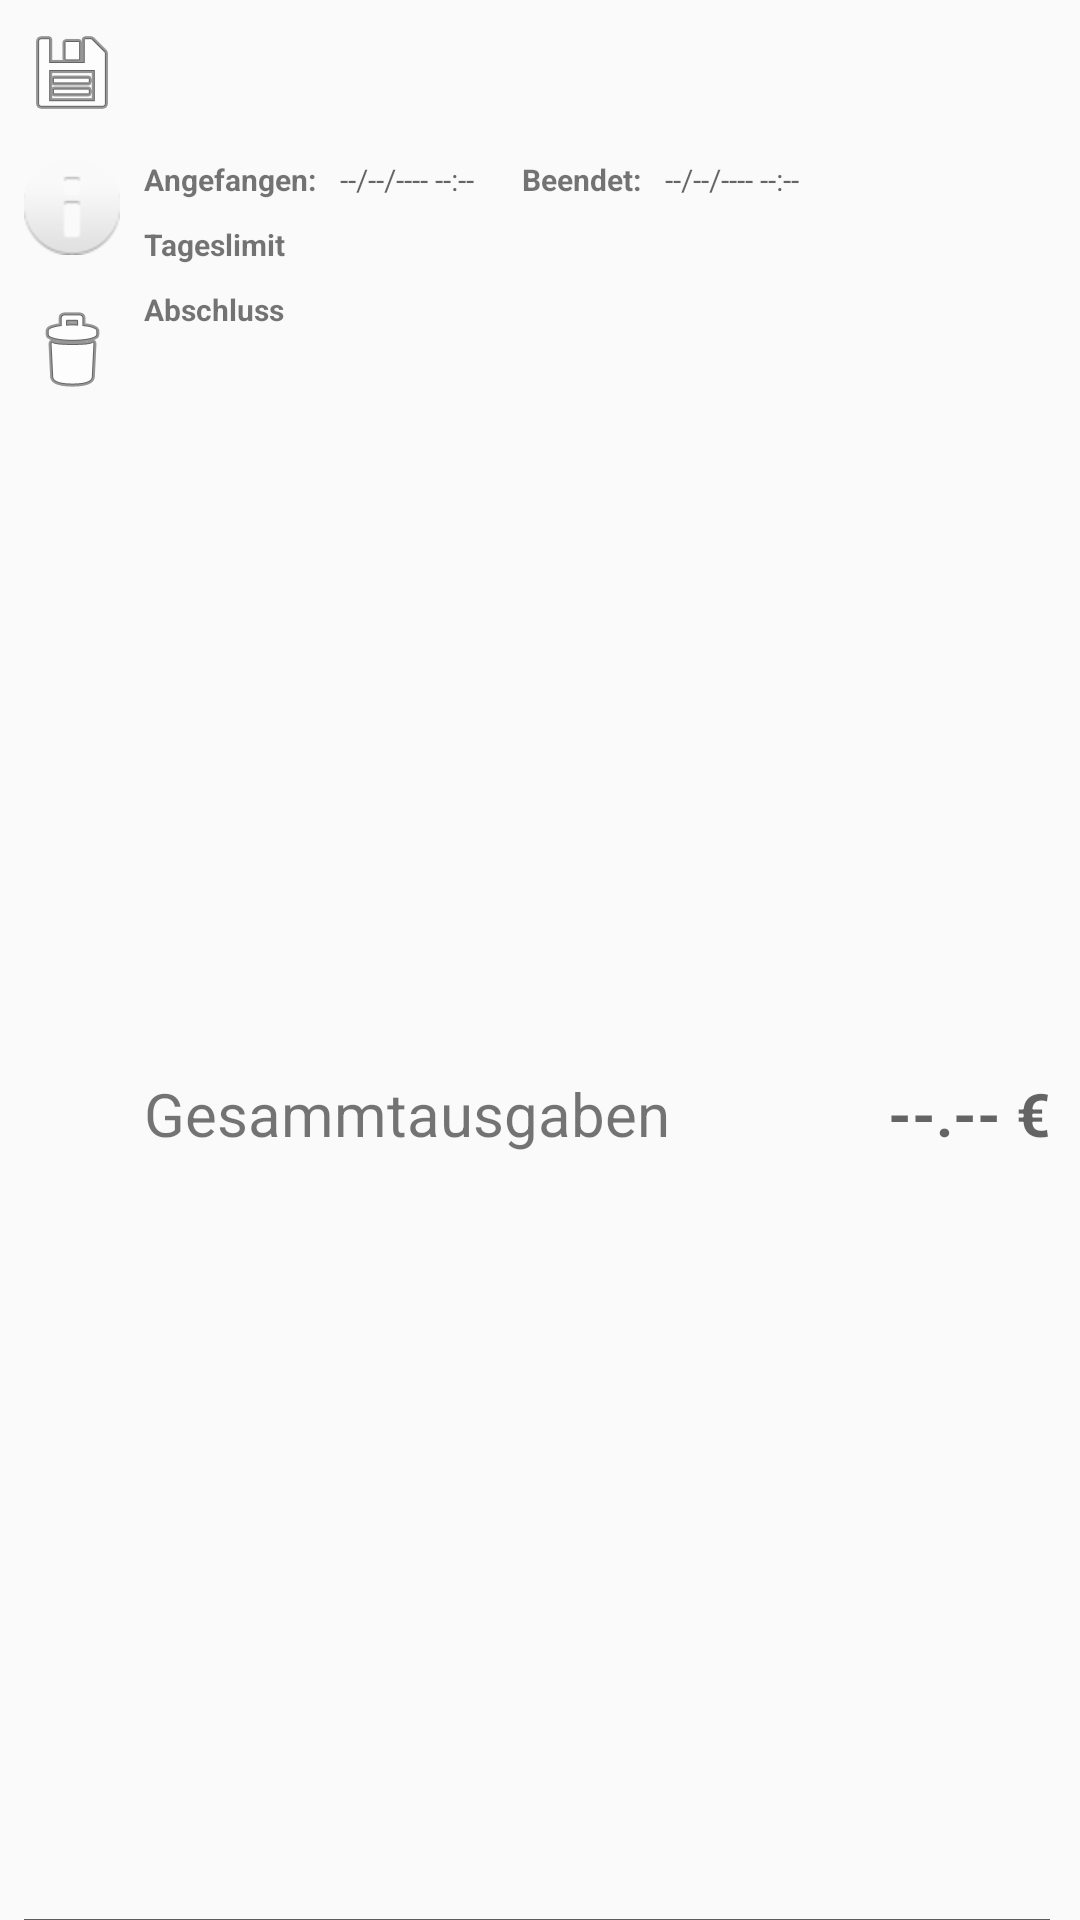

Icons on this 1080px x 1920px Android screen, each with its box as [left=x1, top=y1, right=x2, bottom=y2]:
delete: [left=45, top=312, right=100, bottom=387]
info: [left=24, top=177, right=120, bottom=255]
save: [left=36, top=36, right=108, bottom=109]
